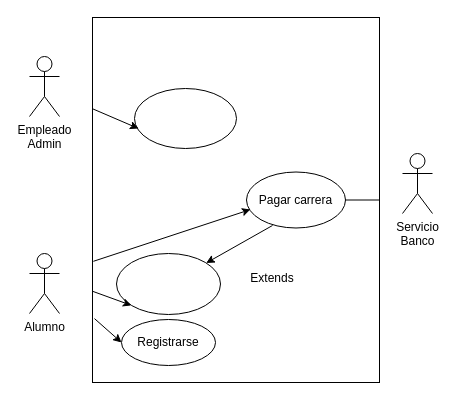
This 456x400 diagram has some shape labels left out. The shapes that lost their labels are listed below. From the top down, each one's centre as x and y in pixels, then its label:
[185,118]: Cargar carrera
[168,283]: Inscribirse
